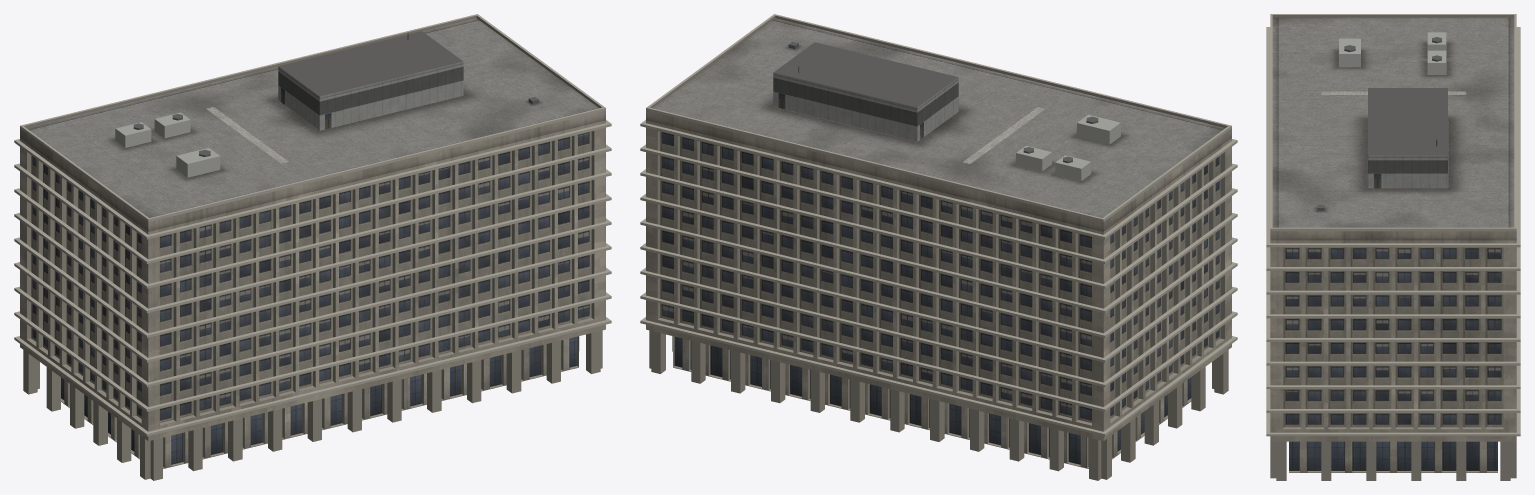
Rendered from dc_brutal_a.glb.
The picture shows the model from 3 angles, left to right: view 1: azimuth 30°, elevation 25°; view 2: azimuth 150°, elevation 25°; view 3: azimuth 270°, elevation 25°; orthographic projection. The views are drawn at different scales.
Parts seen in each view (by area): view 1: dc_brutal_a; view 2: dc_brutal_a; view 3: dc_brutal_a.
Boxes of the visible parts, bbox=[...] form: dc_brutal_a: bbox=[14, 14, 611, 480]; dc_brutal_a: bbox=[640, 14, 1237, 480]; dc_brutal_a: bbox=[1266, 14, 1520, 480].
Bounding box in the file's own units: 71.1 × 44 × 35.1.
1 material, 1 textured.
